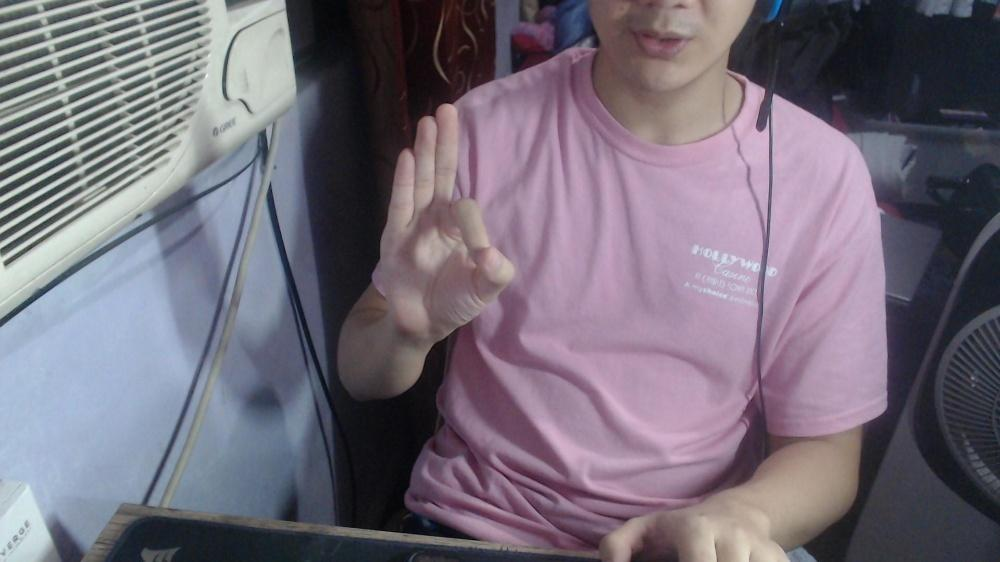f: (377, 99, 519, 341)
